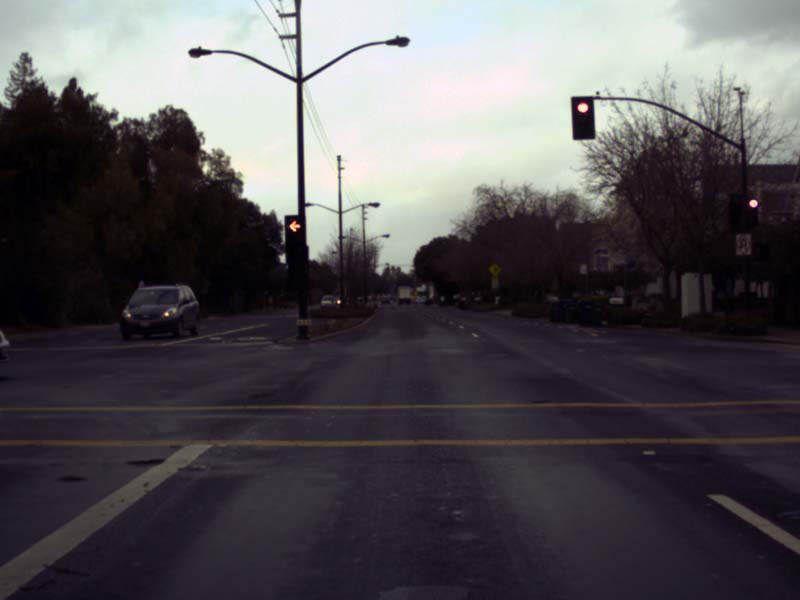Red: (284, 214, 307, 263), (571, 96, 594, 138), (728, 195, 743, 232), (748, 199, 758, 226)
